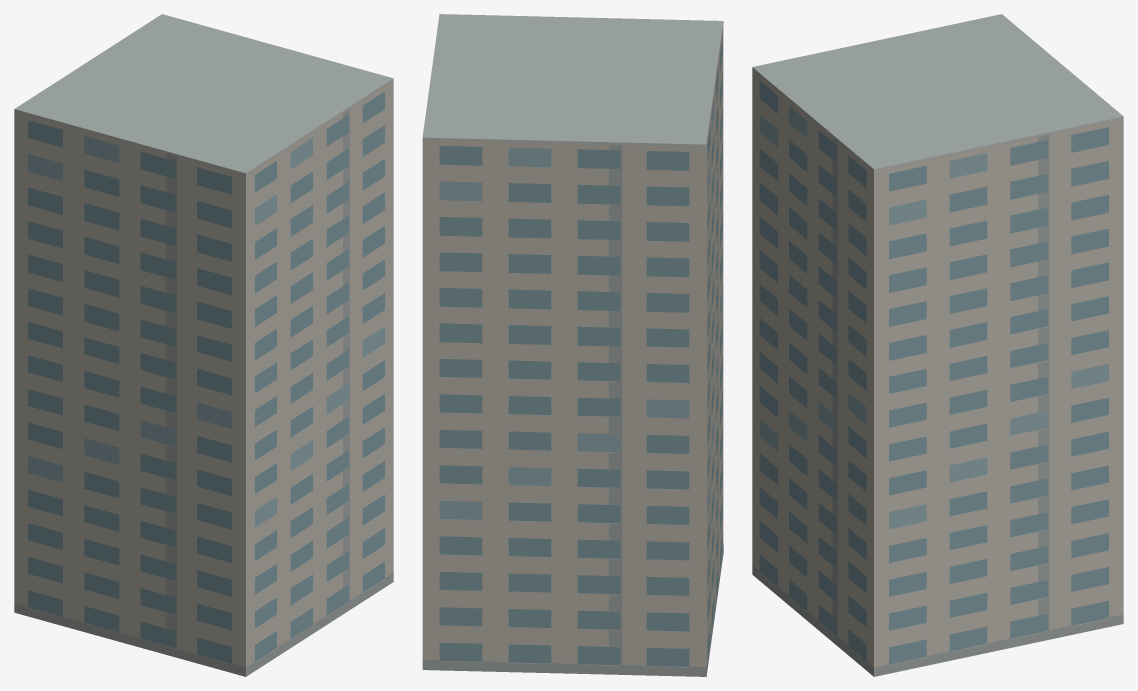
Rendered from residential-ab259c3c-e241-4e25-80cf-0dca2d329a8b.glb.
3 views of the same model, side by side, from view 1: azimuth 30°, elevation 25°; view 2: azimuth 150°, elevation 25°; view 3: azimuth 270°, elevation 25° (orthographic). The views are drawn at different scales.
Visible parts, largest first — view 1: residential-ab259c3c-e241-4e25-80cf-0dca2d329a8b.tmp; view 2: residential-ab259c3c-e241-4e25-80cf-0dca2d329a8b.tmp; view 3: residential-ab259c3c-e241-4e25-80cf-0dca2d329a8b.tmp.
Part boxes in pixels (<box>): residential-ab259c3c-e241-4e25-80cf-0dca2d329a8b.tmp: <box>14,14,393,676</box>; residential-ab259c3c-e241-4e25-80cf-0dca2d329a8b.tmp: <box>422,14,723,676</box>; residential-ab259c3c-e241-4e25-80cf-0dca2d329a8b.tmp: <box>752,14,1123,676</box>.
Bounding box in the file's own units: 34.16 × 52 × 34.5.
